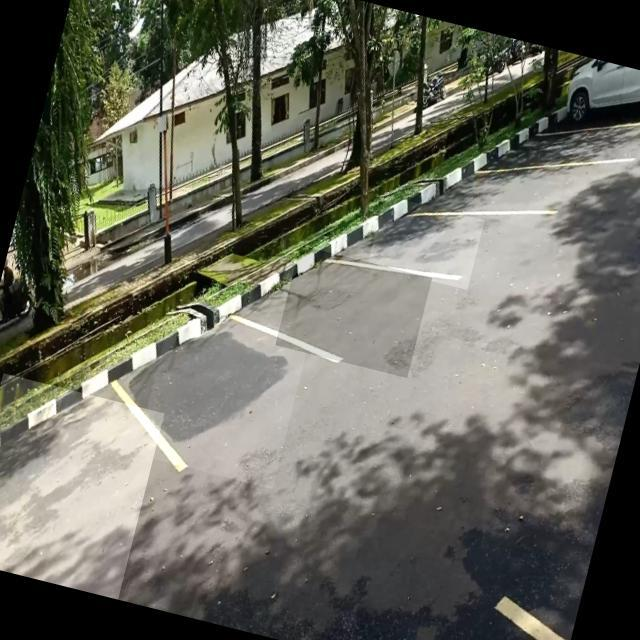empty: (0, 373, 164, 599), (135, 301, 310, 488), (274, 245, 432, 378), (366, 194, 484, 290), (448, 144, 567, 233)
